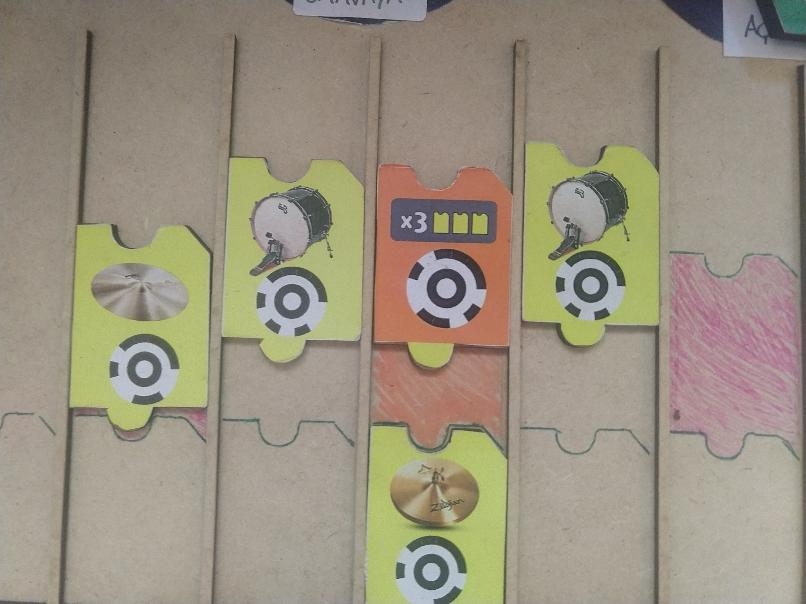bumbo: (519, 136, 662, 348), (223, 154, 365, 365)
